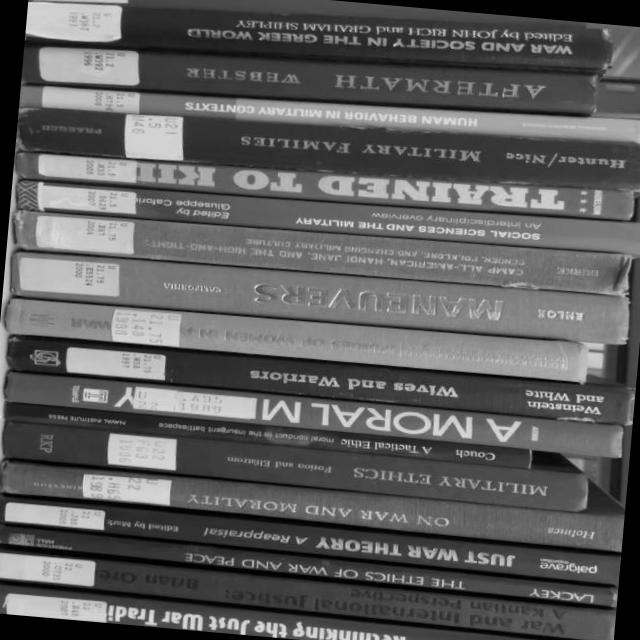book: (7, 247, 631, 346), (0, 546, 614, 640), (0, 495, 621, 585), (0, 461, 620, 550), (6, 337, 633, 423), (15, 105, 640, 191), (11, 208, 628, 295), (6, 371, 623, 458), (0, 421, 586, 511), (0, 523, 614, 608), (8, 294, 584, 383), (13, 178, 640, 255), (14, 149, 632, 220), (24, 0, 610, 74), (22, 43, 596, 114), (19, 82, 640, 144), (3, 402, 528, 468), (0, 583, 536, 640), (37, 0, 585, 49)
